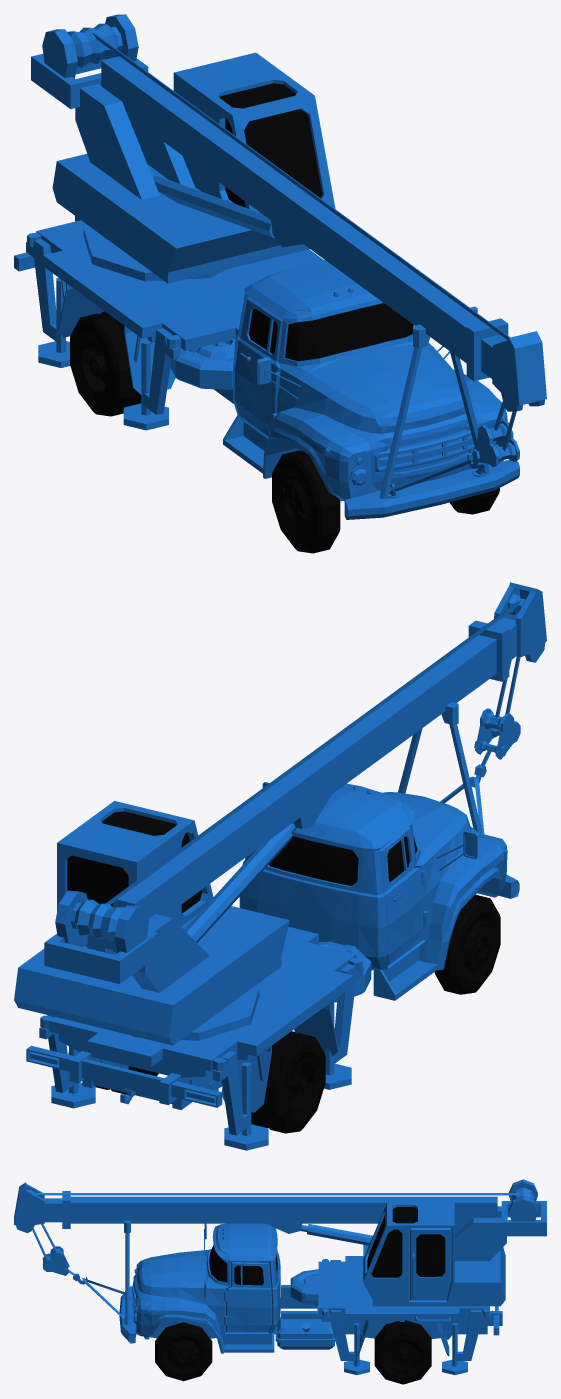
File: SM_construction_crane.fbx
3 renders of one model, top to bottom at view 1: azimuth 30°, elevation 25°; view 2: azimuth 150°, elevation 25°; view 3: azimuth 270°, elevation 25°, orthographic. The views are drawn at different scales.
Parts seen in each view (by area): view 1: cafsdf_2, Cylinder_3, Cylinder_2, Cylinder; view 2: cafsdf_2, Cylinder_3, Cylinder_2; view 3: cafsdf_2, Cylinder_3, Cylinder.
Part boxes in pixels (x1=…): cafsdf_2: x1=14, y1=14, x2=546, y2=519; Cylinder_3: x1=70, y1=311, x2=141, y2=416; Cylinder_2: x1=272, y1=450, x2=340, y2=553; Cylinder: x1=449, y1=488, x2=499, y2=514; cafsdf_2: x1=14, y1=582, x2=546, y2=1150; Cylinder_3: x1=95, y1=1031, x2=325, y2=1133; Cylinder_2: x1=434, y1=894, x2=500, y2=994; cafsdf_2: x1=14, y1=1179, x2=546, y2=1374; Cylinder_3: x1=374, y1=1320, x2=431, y2=1384; Cylinder: x1=155, y1=1322, x2=212, y2=1381.
Bounding box in the file's own units: 283 × 351 × 997.
